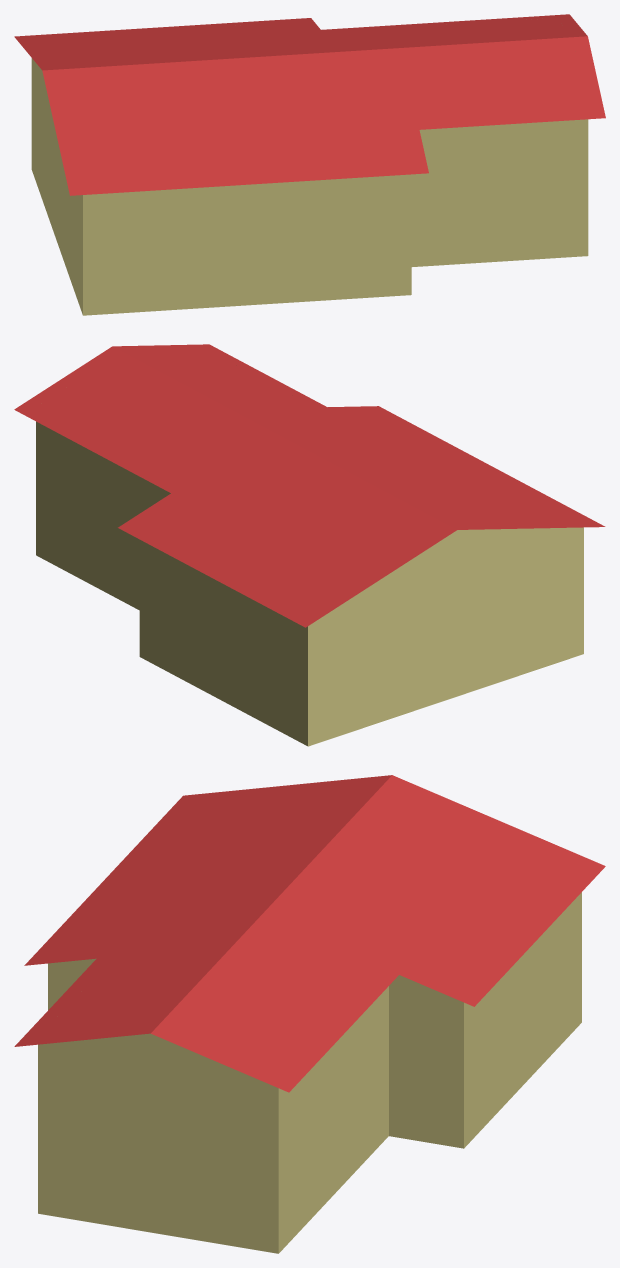
3 renders of one model, top to bottom at view 1: azimuth 30°, elevation 25°; view 2: azimuth 150°, elevation 25°; view 3: azimuth 270°, elevation 25°, orthographic. The views are drawn at different scales.
Size of the model in its own units: 40.59 by 32.07 by 12.39.
